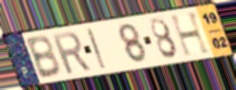8: (116, 23, 149, 64), (149, 17, 179, 60)
B: (24, 33, 63, 81)
H: (168, 9, 213, 59)
I: (84, 26, 110, 71)
R: (49, 30, 94, 76)
